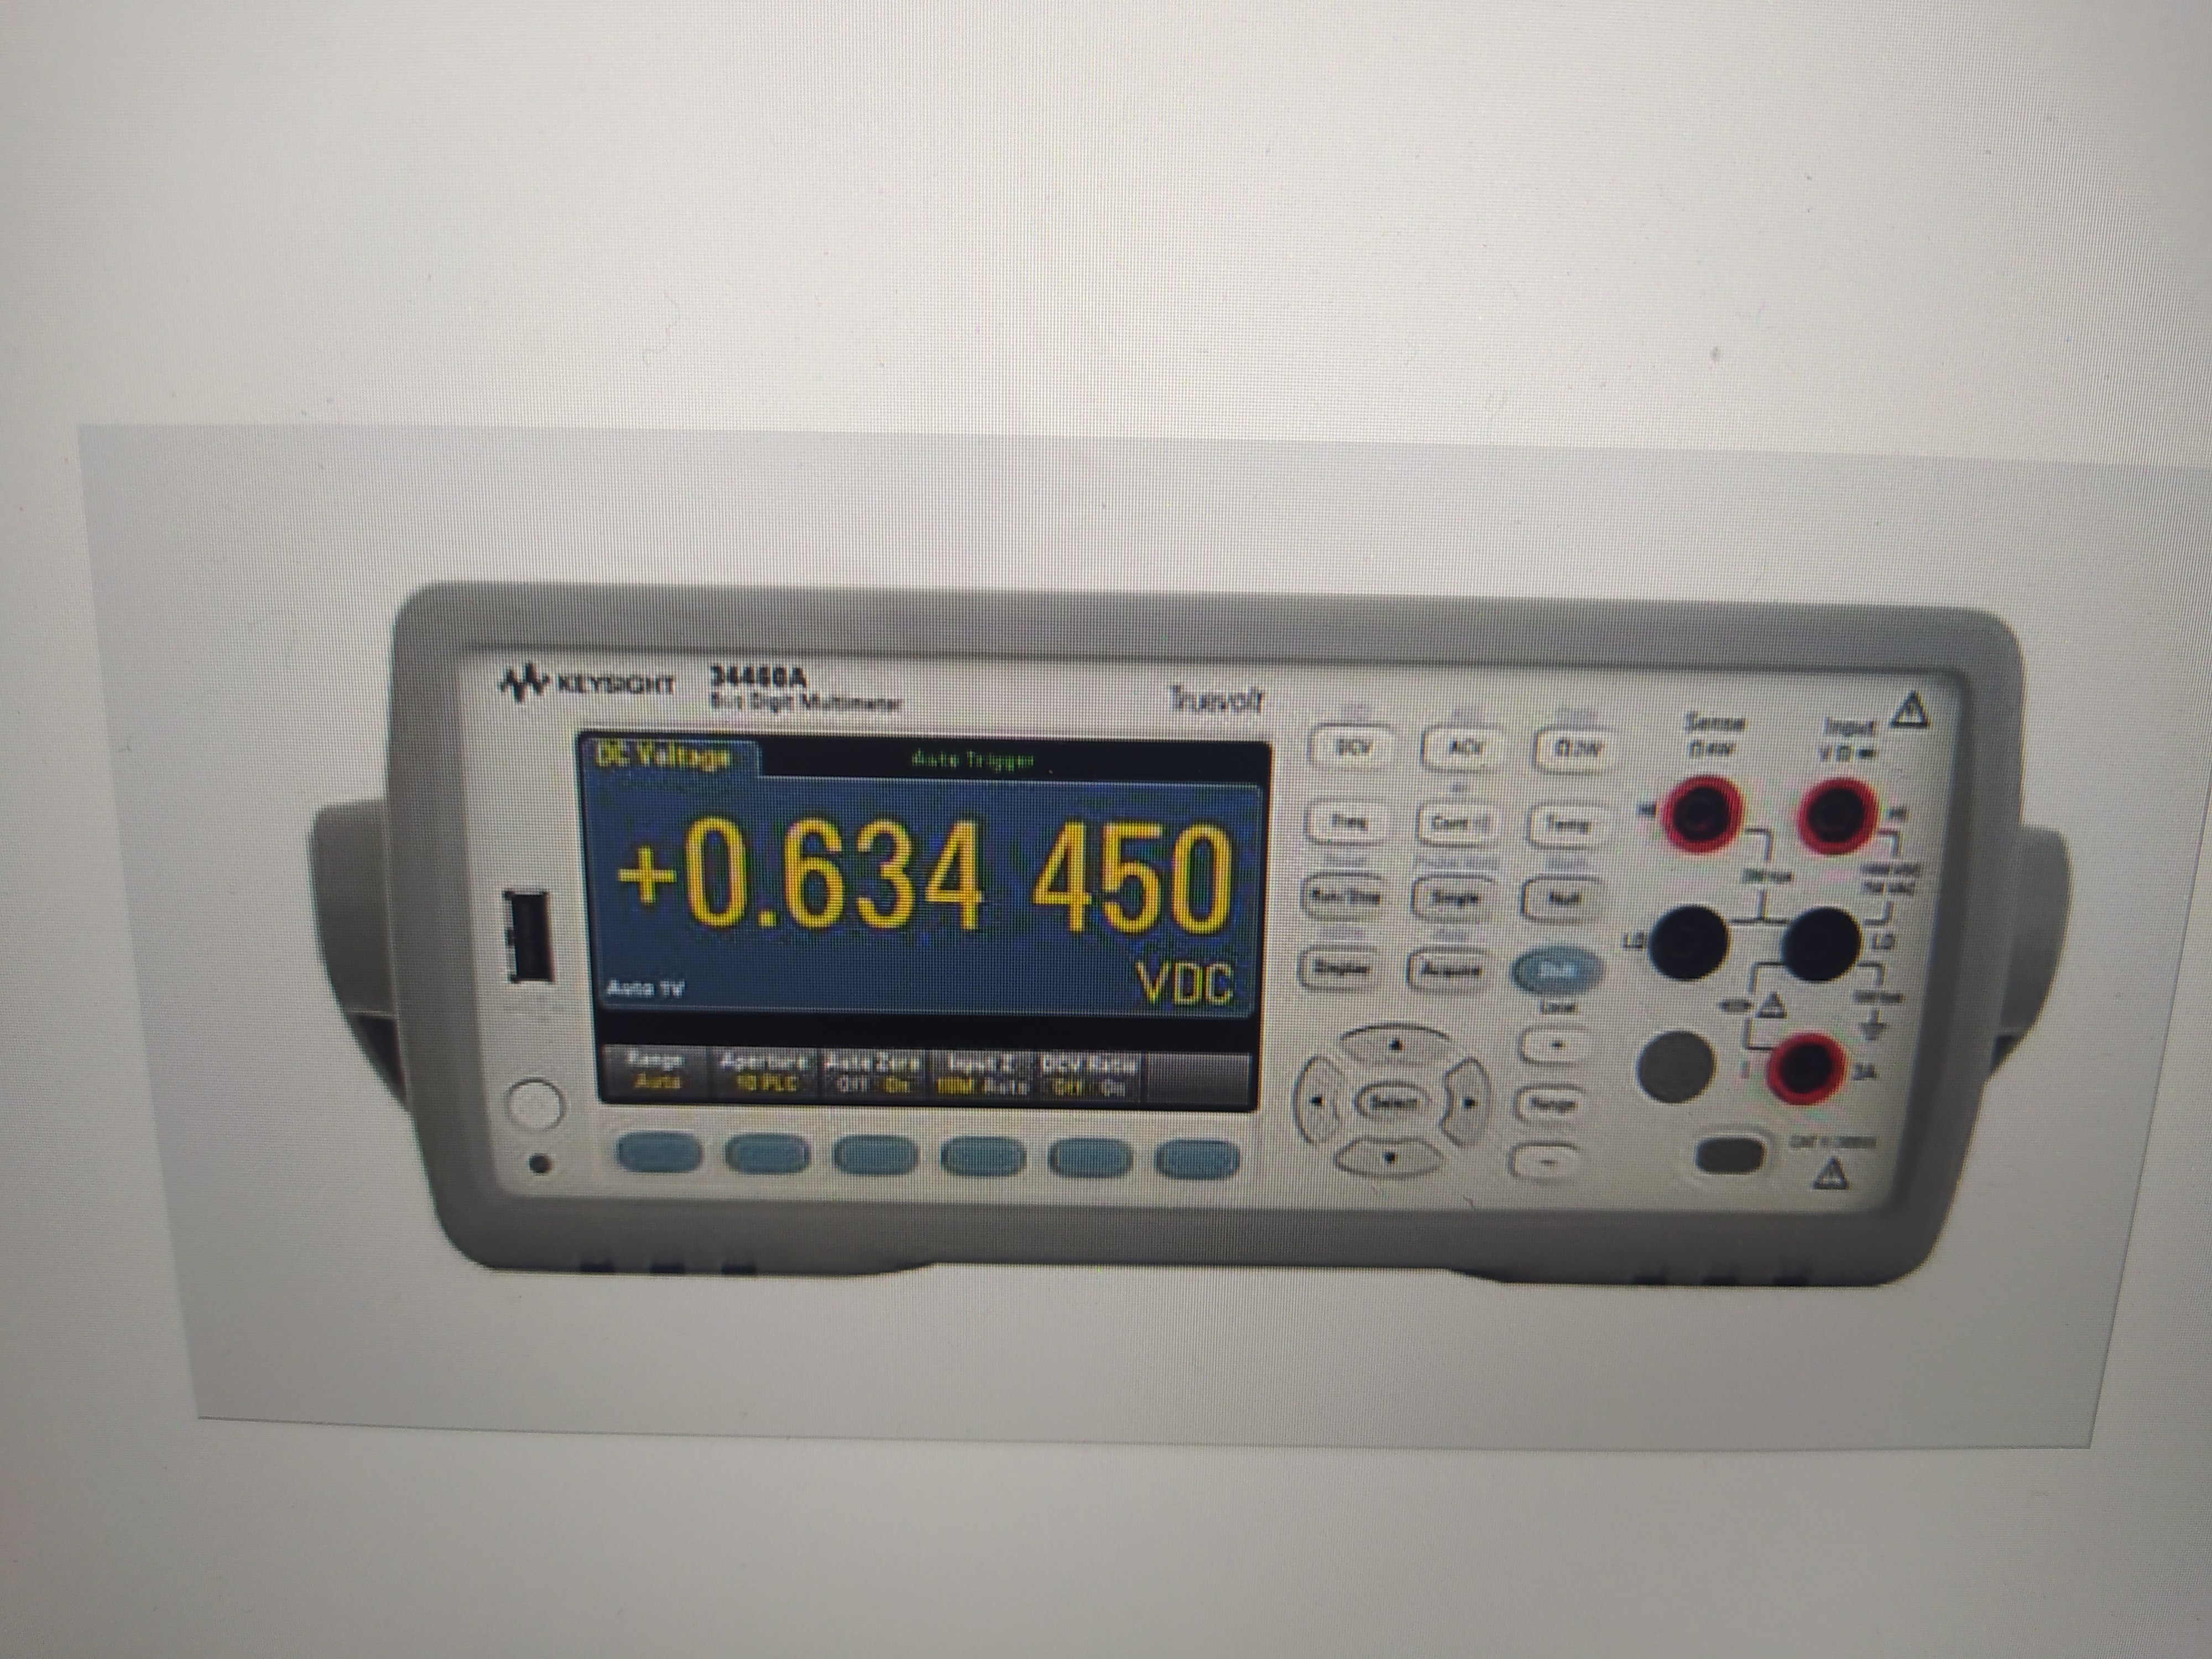.: (749, 803, 789, 939)
0: (679, 802, 752, 934), (1169, 810, 1235, 939), (772, 655, 791, 692)
3: (845, 805, 920, 941), (704, 657, 725, 692)
4: (921, 802, 989, 943), (1031, 805, 1097, 934), (726, 657, 744, 690), (742, 655, 756, 690), (758, 655, 770, 690)
5: (1099, 807, 1165, 936)
6: (789, 802, 845, 941)
